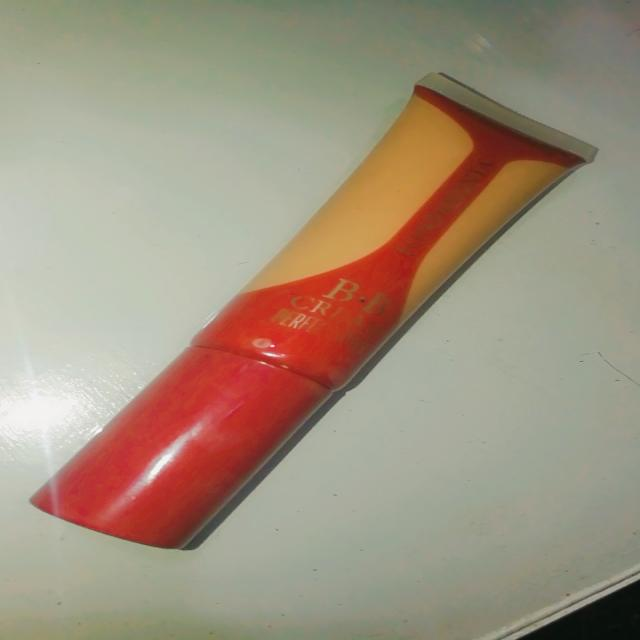bb cream: (0, 62, 611, 579)
